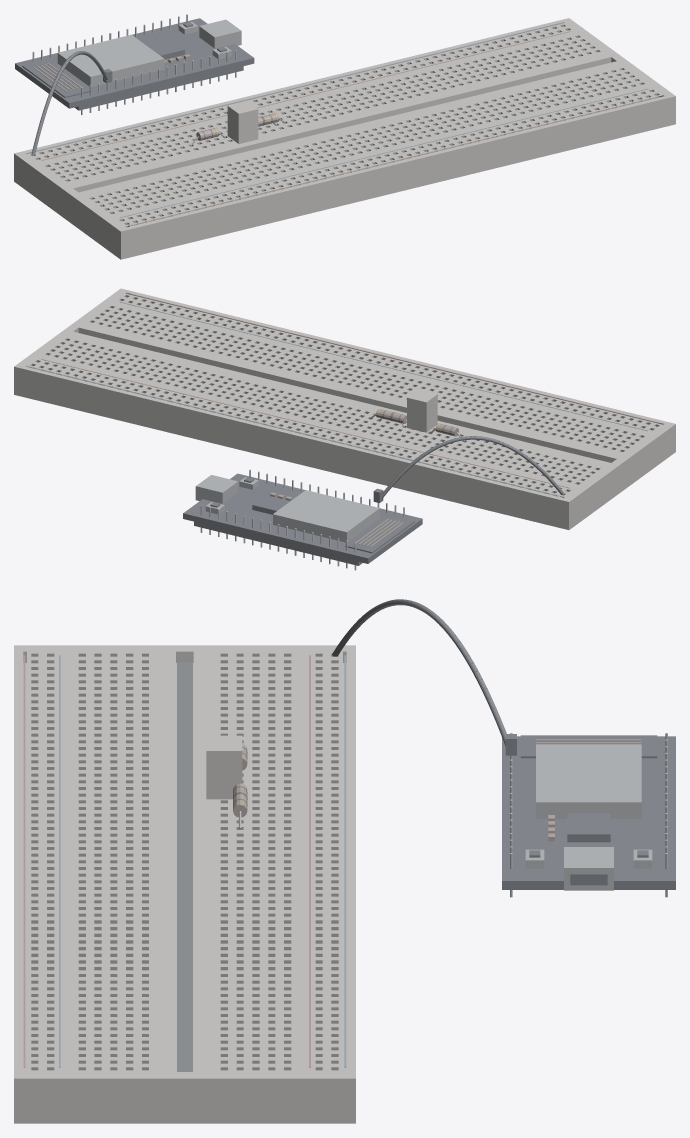
File: step-5.glb
3 views of the same model, one above another, from view 1: azimuth 30°, elevation 25°; view 2: azimuth 150°, elevation 25°; view 3: azimuth 270°, elevation 25° (orthographic). The views are drawn at different scales.
Visible parts, largest first — view 1: breadboard__mesh, arduino__mesh, rgb_led__mesh, wire_gnd_rail__mesh; view 2: breadboard__mesh, arduino__mesh, rgb_led__mesh, wire_gnd_rail__mesh; view 3: breadboard__mesh, arduino__mesh, rgb_led__mesh, wire_gnd_rail__mesh.
Part boxes in pixels (x1,y1,x2,y2): breadboard__mesh: [14, 18, 675, 259]; arduino__mesh: [15, 14, 254, 114]; rgb_led__mesh: [227, 101, 258, 143]; wire_gnd_rail__mesh: [31, 51, 112, 155]; breadboard__mesh: [14, 288, 675, 529]; arduino__mesh: [183, 469, 422, 570]; rgb_led__mesh: [407, 389, 437, 432]; wire_gnd_rail__mesh: [373, 436, 564, 502]; breadboard__mesh: [14, 645, 355, 1123]; arduino__mesh: [502, 732, 675, 897]; rgb_led__mesh: [206, 735, 242, 799]; wire_gnd_rail__mesh: [332, 599, 516, 755].
Size of the model in its own units: 0.165 by 0.0257 by 0.1065.
